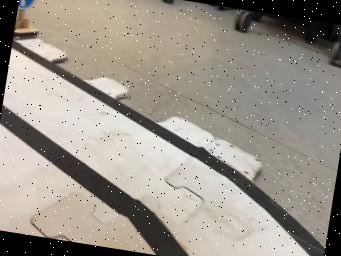forward: (12, 0, 37, 38), (12, 0, 37, 38), (12, 0, 37, 38), (12, 0, 37, 38), (12, 0, 37, 38)
street: (0, 41, 324, 256), (0, 41, 324, 256), (0, 41, 324, 256), (0, 41, 324, 256), (0, 41, 324, 256)
